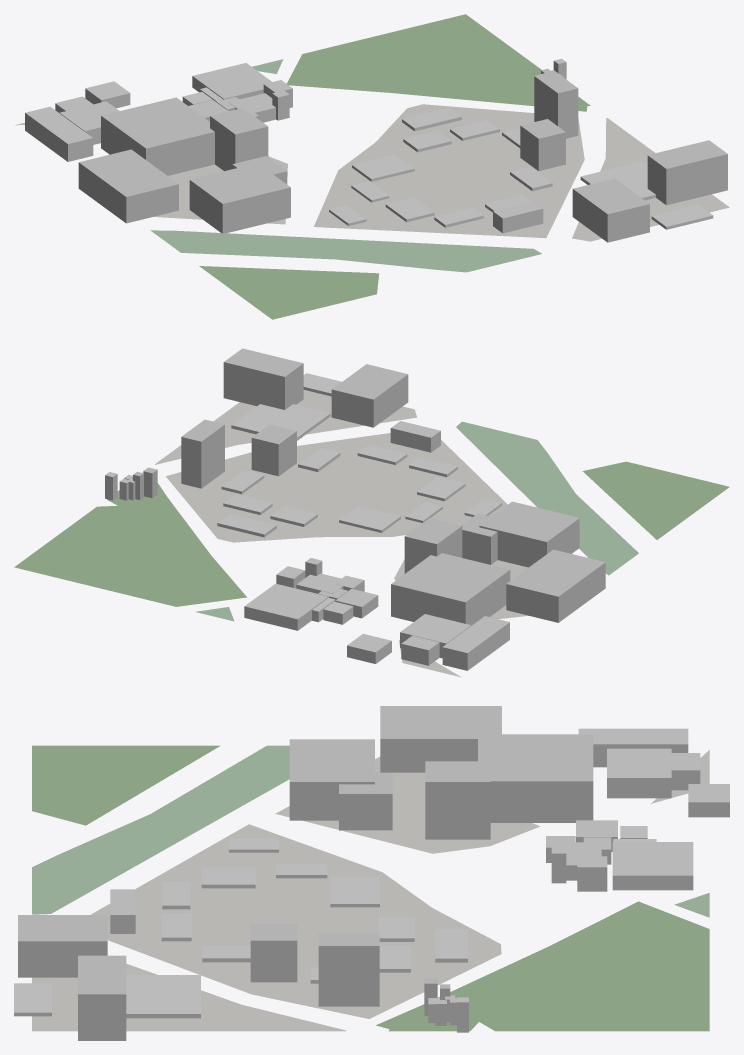
Rendered from 132_100_mid.glb.
3 views of the same model, one above another, from view 1: azimuth 30°, elevation 25°; view 2: azimuth 150°, elevation 25°; view 3: azimuth 270°, elevation 25° (orthographic). The views are drawn at different scales.
Size of the model in its own units: 529 by 50.39 by 528.
